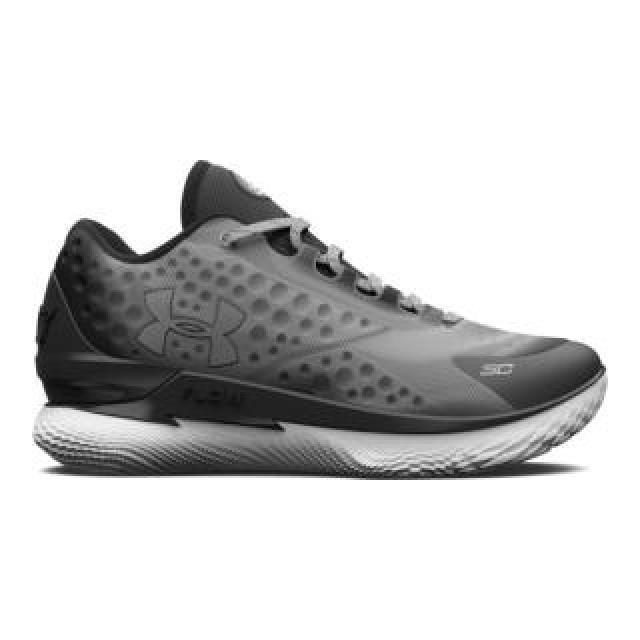shoes: (34, 160, 608, 476)
